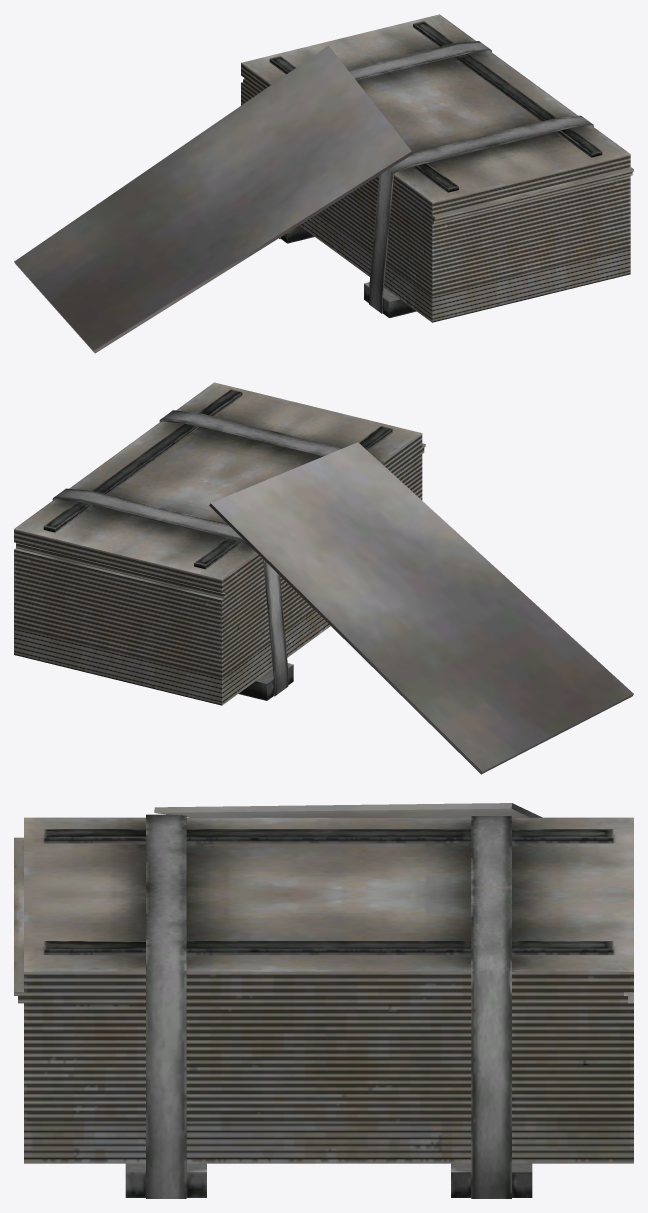
File: poi_all_construction_metal_pile_l0.fbx
The picture shows the model from 3 angles, top to bottom: view 1: azimuth 30°, elevation 25°; view 2: azimuth 150°, elevation 25°; view 3: azimuth 270°, elevation 25°; orthographic projection. The views are drawn at different scales.
Visible parts, largest first — view 1: mesh_node; view 2: mesh_node; view 3: mesh_node.
Boxes of the visible parts, box(x1,y1,x2,y2) form: mesh_node: box(14, 14, 633, 353); mesh_node: box(14, 382, 633, 774); mesh_node: box(14, 803, 633, 1198).
Bounding box in the file's own units: 4.36 × 1.47 × 3.05.
Materials: 1 (1 with a texture image).
